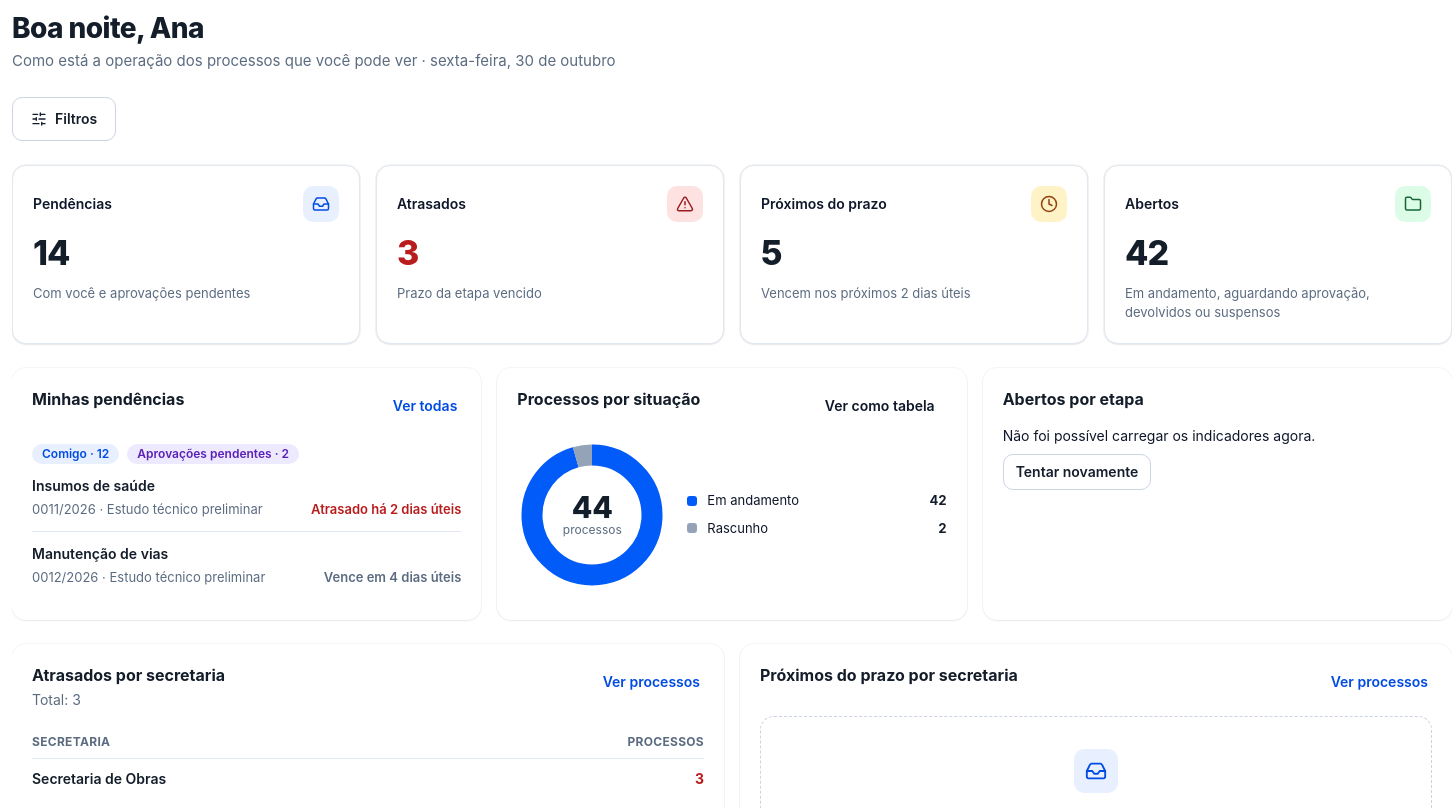
Scenario: SCR-003 — Painel (US-076) › FA-05: um cartão com erro mostra "Tentar novamente" sem afetar os demais
This screenshot has width=1452, height=808.
Expected: the message shows "Não foi possível carregar os indicadores agora.", left=1003, top=427, right=1315, bottom=444
Expected: the link "Em andamento" is shown, left=707, top=492, right=799, bottom=508
What coordinates should you click on to do the following:
click the button "Tentar novamente"
I would click on:
 (1077, 472)
Its box is left=1003, top=454, right=1151, bottom=490.
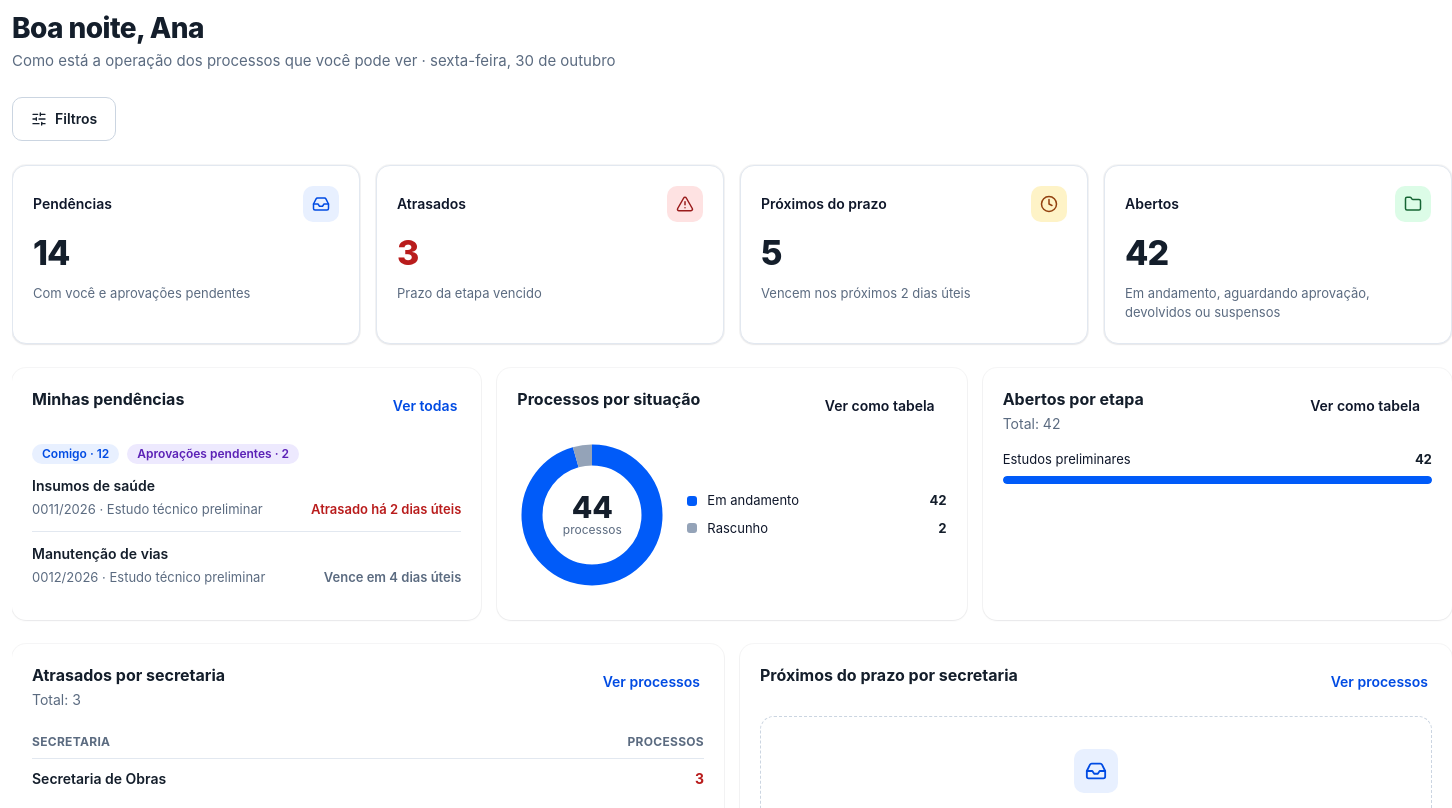
Expected: the link "Estudos preliminares" is shown, left=1003, top=450, right=1131, bottom=470
